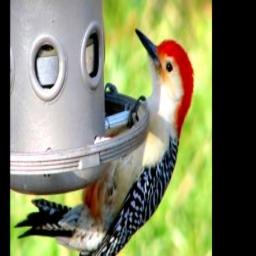Woodpecker: (14, 28, 194, 256)
